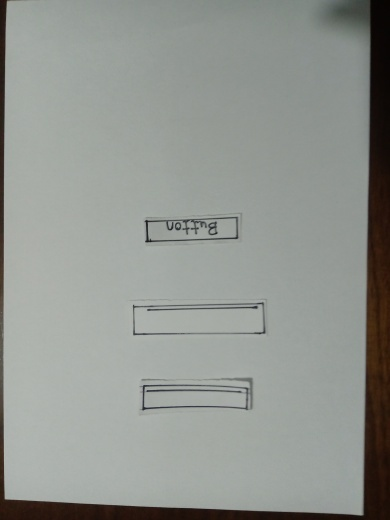button: (144, 220, 243, 243)
checkbox: (135, 304, 265, 334), (139, 379, 249, 412)
